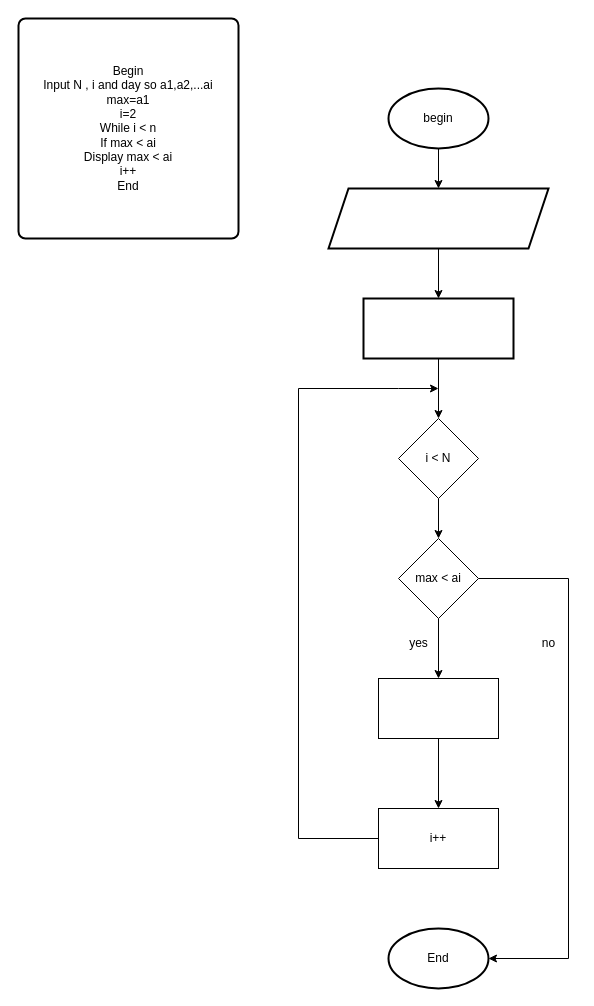
The diagram is 594 pixels wide and 1006 high, and some of its shapes have lost their labels. The box of each missing label's shape, as (x1, y1, x2, y2) in pixels:
Display max la ai: (378, 678, 498, 738)
Input N,i and day so a1,a2,...ai: (327, 187, 549, 249)
max = a1 i = 2: (362, 297, 514, 359)
